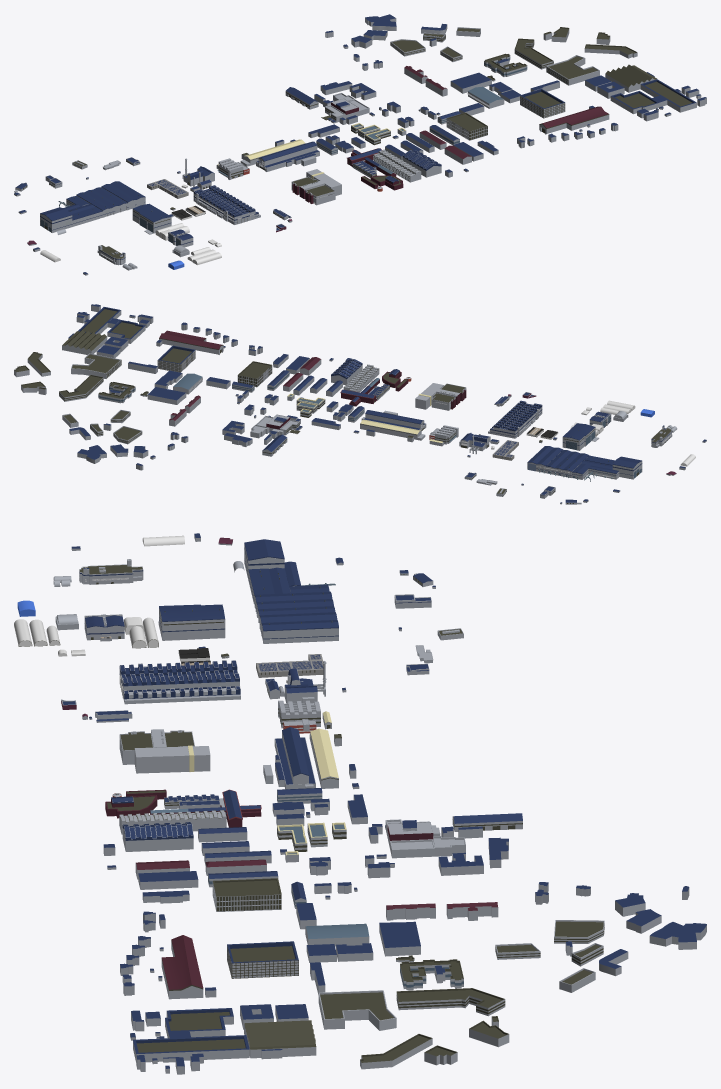
The model's file is Philly_Building.glb.
3 renders of one model, top to bottom at view 1: azimuth 30°, elevation 25°; view 2: azimuth 150°, elevation 25°; view 3: azimuth 270°, elevation 25°, orthographic. The views are drawn at different scales.
Visible parts, largest first — view 1: Phiily_Building.001, Phiily_Building.017, Phiily_Building.003, Phiily_Building.004, Phiily_Building.008, Phiily_Building.040, Phiily_Building.042, Phiily_Building.039, Phiily_Building.009, Phiily_Building.016, Phiily_Building.002, Phiily_Building.018 (+13 smaller); view 2: Phiily_Building.001, Phiily_Building.017, Phiily_Building.003, Phiily_Building.004, Phiily_Building.042, Phiily_Building.040, Phiily_Building.009, Phiily_Building.016, Phiily_Building.039, Phiily_Building.002, Phiily_Building.008, Phiily_Building.018 (+13 smaller); view 3: Phiily_Building.001, Phiily_Building.003, Phiily_Building.017, Phiily_Building.004, Phiily_Building.016, Phiily_Building.042, Phiily_Building.039, Phiily_Building.009, Phiily_Building.002, Phiily_Building.018, Phiily_Building.105, Phiily_Building.040 (+19 smaller).
Part boxes in pixels (box(x1,y1,x2,y2)): Phiily_Building.001: box(40, 181, 145, 232); Phiily_Building.017: box(610, 79, 696, 114); Phiily_Building.003: box(193, 185, 260, 224); Phiily_Building.004: box(291, 169, 341, 205); Phiily_Building.008: box(256, 141, 319, 171); Phiily_Building.040: box(539, 106, 609, 134); Phiily_Building.042: box(546, 55, 599, 85); Phiily_Building.039: box(520, 89, 565, 118); Phiily_Building.009: box(321, 93, 369, 123); Phiily_Building.016: box(605, 64, 656, 92); Phiily_Building.002: box(132, 203, 171, 234); Phiily_Building.018: box(446, 112, 487, 140); Phiily_Building.001: box(527, 446, 642, 481); Phiily_Building.017: box(78, 307, 145, 343); Phiily_Building.003: box(488, 400, 542, 438); Phiily_Building.004: box(415, 383, 466, 410); Phiily_Building.042: box(71, 353, 121, 378); Phiily_Building.040: box(159, 330, 223, 354); Phiily_Building.009: box(250, 414, 302, 438); Phiily_Building.016: box(62, 330, 107, 354); Phiily_Building.039: box(157, 345, 195, 372); Phiily_Building.002: box(562, 423, 599, 450); Phiily_Building.008: box(361, 410, 426, 430); Phiily_Building.018: box(237, 361, 272, 387); Phiily_Building.001: box(244, 539, 338, 643); Phiily_Building.003: box(119, 660, 240, 704); Phiily_Building.017: box(133, 1008, 249, 1064); Phiily_Building.004: box(119, 729, 210, 773); Phiily_Building.016: box(244, 1020, 316, 1059); Phiily_Building.042: box(318, 990, 396, 1030); Phiily_Building.039: box(227, 941, 298, 978); Phiily_Building.009: box(385, 819, 465, 858); Phiily_Building.002: box(158, 604, 225, 640); Phiily_Building.018: box(212, 878, 281, 911); Phiily_Building.105: box(396, 988, 505, 1016); Phiily_Building.040: box(161, 935, 203, 999).
Bounding box in the file's own units: 2322 × 68.16 × 1265.
Materials: 27 (9 with a texture image).
